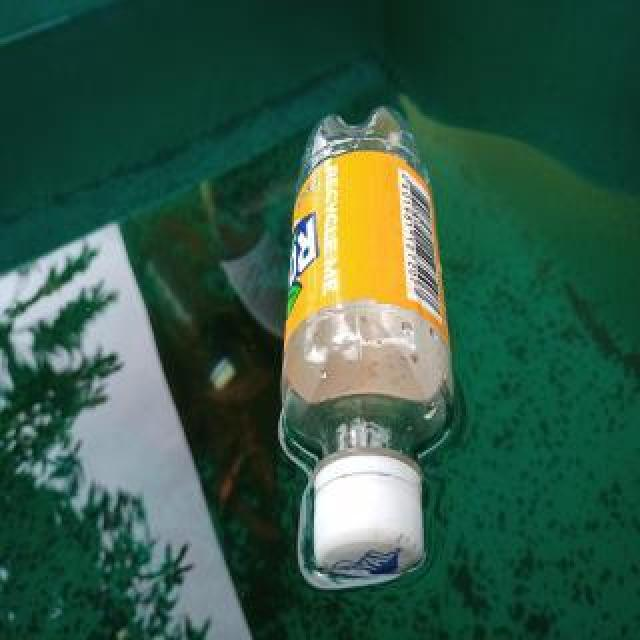bottle: (276, 100, 458, 584)
